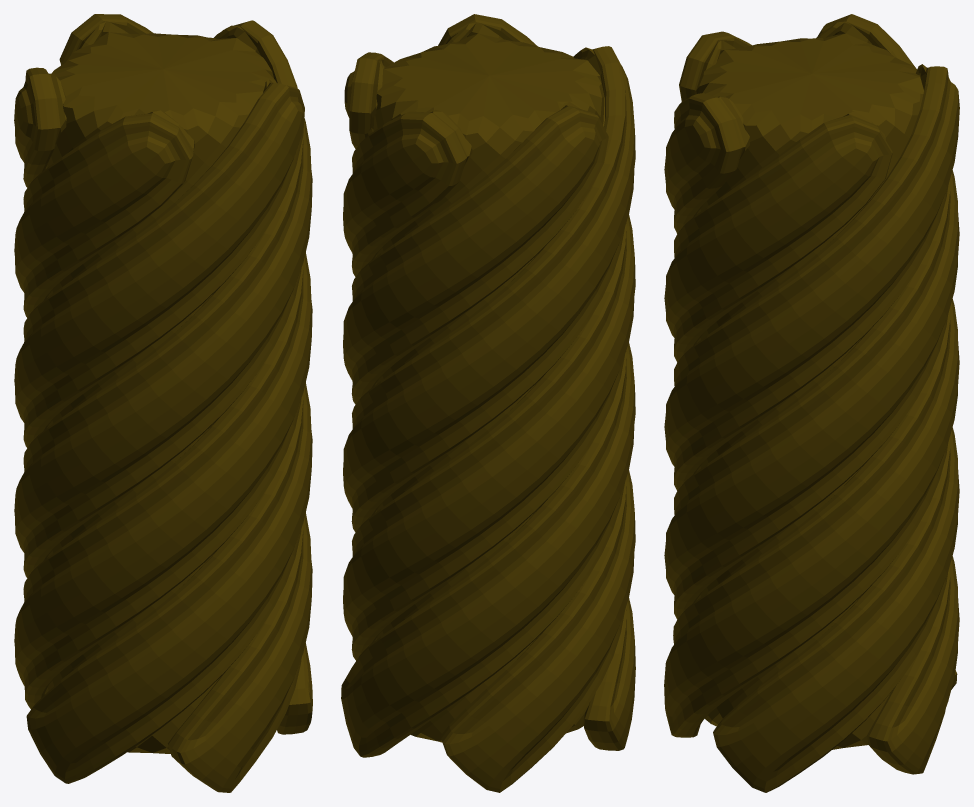
File: CandleWick.glb
3 views of the same model, side by side, from view 1: azimuth 30°, elevation 25°; view 2: azimuth 150°, elevation 25°; view 3: azimuth 270°, elevation 25° (orthographic).
Visible parts, largest first — view 1: Icosphere; view 2: Icosphere; view 3: Icosphere.
Part boxes in pixels (x1=…): Icosphere: x1=14, y1=14, x2=312, y2=792; Icosphere: x1=341, y1=14, x2=635, y2=792; Icosphere: x1=664, y1=14, x2=959, y2=792.
Bounding box in the file's own units: 2.51 × 6.27 × 2.5.
